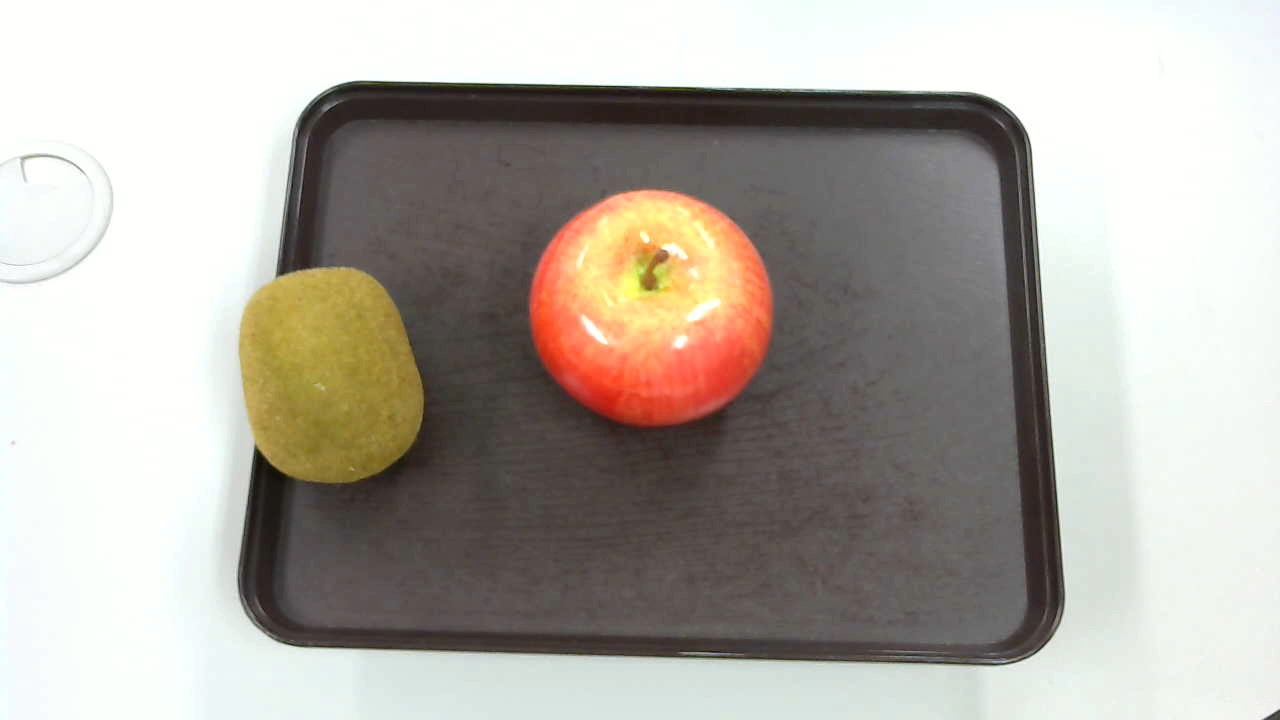kiwi fruit: (238, 266, 428, 491)
red apple: (527, 181, 776, 430)
